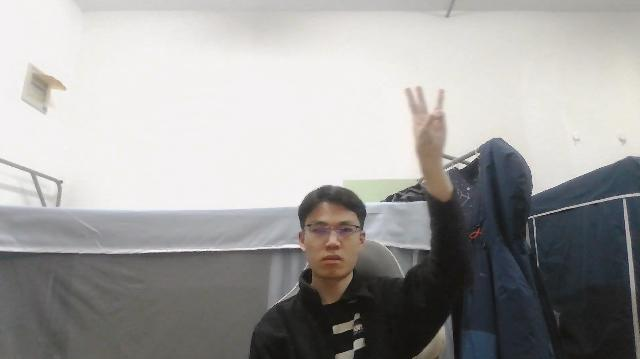three: (404, 84, 448, 160)
